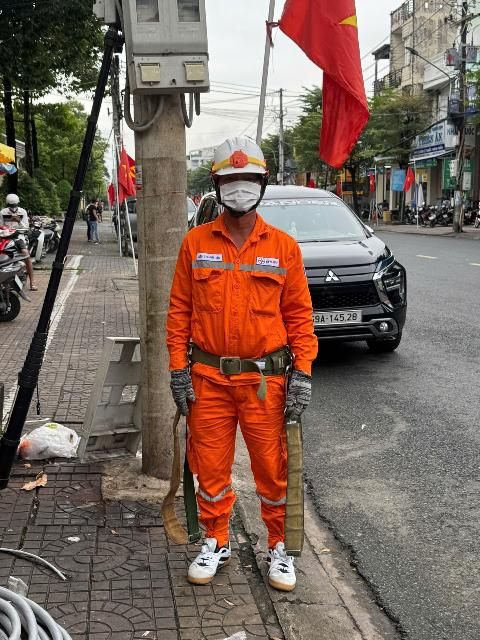gloves: (154, 364, 217, 417), (272, 359, 324, 422)
harness: (179, 334, 305, 383)
helmet: (190, 135, 293, 181)
shoes: (249, 534, 326, 609), (181, 526, 247, 592)
